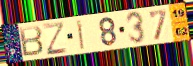3: (125, 10, 147, 46)
7: (148, 8, 169, 42)
8: (98, 16, 119, 47)
B: (17, 25, 45, 58)
I: (76, 19, 86, 52)
Z: (41, 20, 68, 57)
